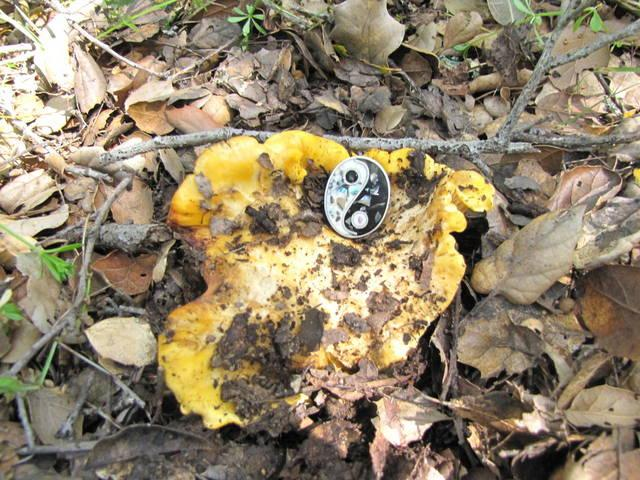edible_mushroom: (156, 128, 495, 430)
